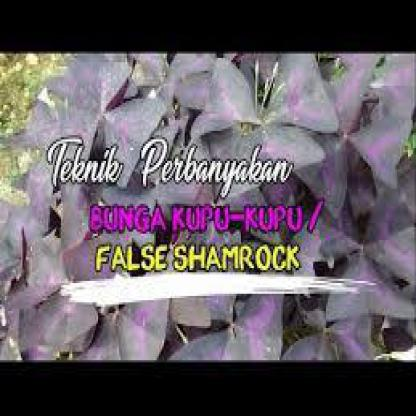Kupu-Kupu: (221, 57, 321, 183), (54, 57, 149, 179)
